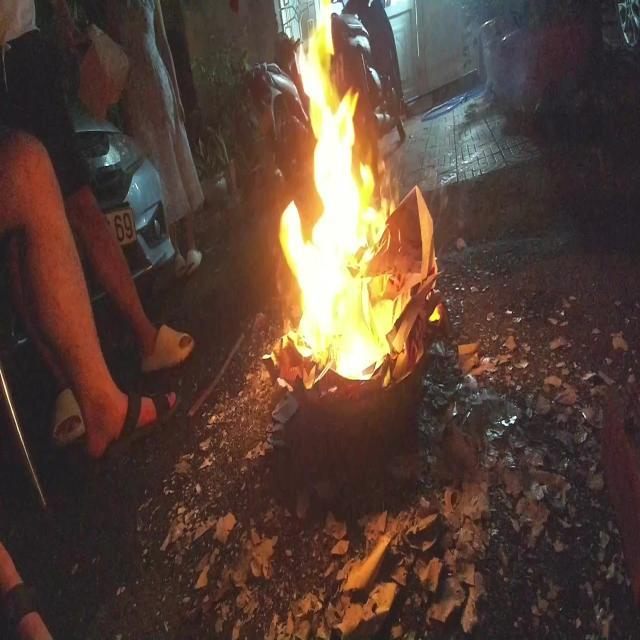Fire: (276, 0, 440, 380)
